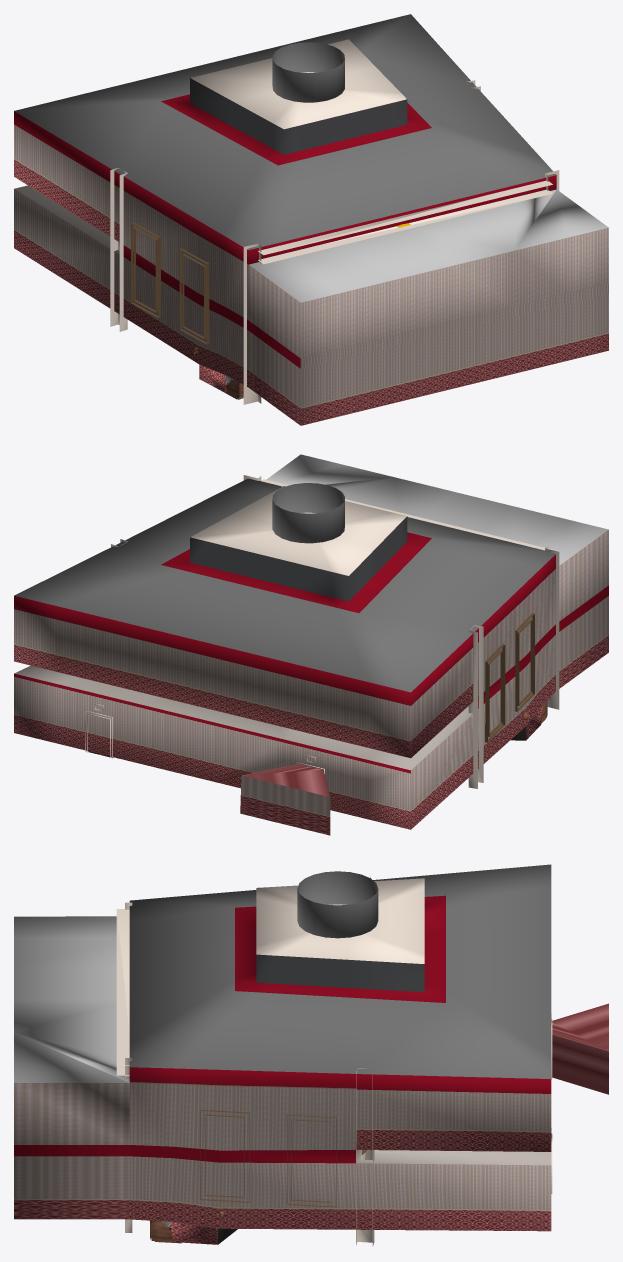
File: TeatroEscenario.glb
3 renders of one model, top to bottom at view 1: azimuth 30°, elevation 25°; view 2: azimuth 150°, elevation 25°; view 3: azimuth 270°, elevation 25°, orthographic. The views are drawn at different scales.
Visible parts, largest first — view 1: ceil, base, painting-d, painting-c; view 2: ceil, outside-exit, base, painting-c, painting-d; view 3: ceil, base, outside-exit, painting-a, painting-b.
Boxes of the visible parts, left/top/right/bottom form: ceil: left=14, top=14, right=608, bottom=425; base: left=110, top=80, right=559, bottom=404; painting-d: left=179, top=248, right=209, bottom=344; painting-c: left=131, top=222, right=160, bottom=318; ceil: left=14, top=454, right=608, bottom=829; outside-exit: left=240, top=764, right=330, bottom=835; base: left=85, top=475, right=559, bottom=788; painting-c: left=485, top=644, right=505, bottom=742; painting-d: left=515, top=613, right=534, bottom=711; ceil: left=14, top=864, right=551, bottom=1231; base: left=116, top=876, right=552, bottom=1246; outside-exit: left=552, top=1003, right=608, bottom=1094; painting-a: left=200, top=1109, right=249, bottom=1202; painting-b: left=287, top=1114, right=336, bottom=1207.
Size of what is drawn, in the model's own units: 30.01 by 17.6 by 35.15.
2 materials, 1 textured.
